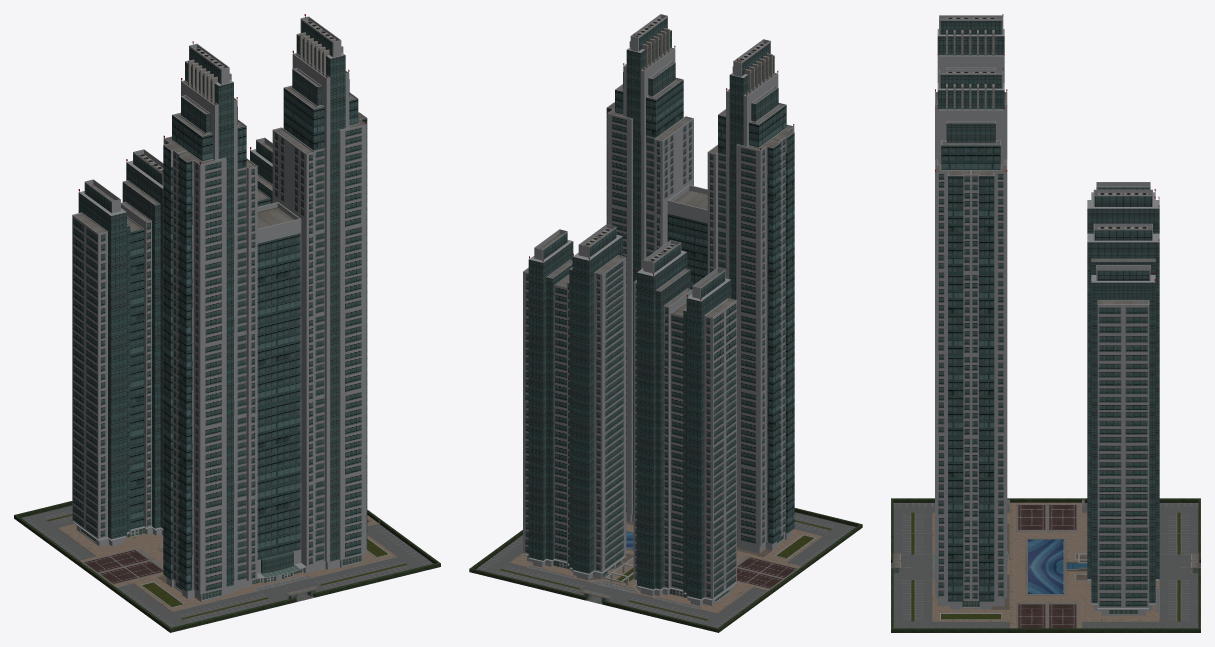
The model's file is the_peak_residences_jakarta.glb.
The picture shows the model from 3 angles, left to right: view 1: azimuth 30°, elevation 25°; view 2: azimuth 150°, elevation 25°; view 3: azimuth 270°, elevation 25°; orthographic projection. The views are drawn at different scales.
Parts seen in each view (by area): view 1: hithepeak; view 2: hithepeak; view 3: hithepeak.
Boxes of the visible parts, <box> form: hithepeak: <box>14,14,440,632</box>; hithepeak: <box>469,14,862,632</box>; hithepeak: <box>891,14,1200,632</box>.
Bounding box in the file's own units: 10200 × 19117 × 10200.
Materials: 1 (1 with a texture image).
